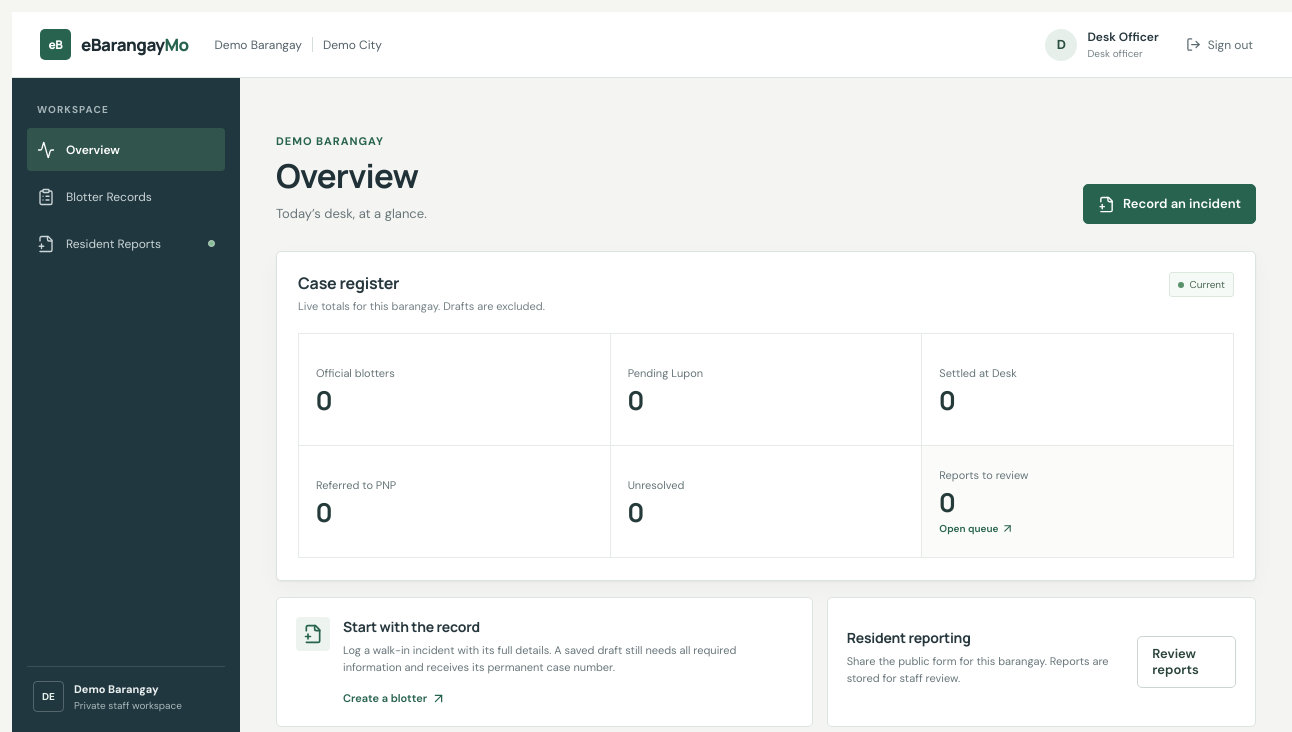
Test: staff sign-in › retains the authenticated context and CSRF token after a failed logout
The width and height of the screenshot is (1292, 732).
Expected: the heading "Overview" is shown, [276, 156, 427, 196]
Click the button "Sign out" at [1219, 44], box [1175, 27, 1264, 62]
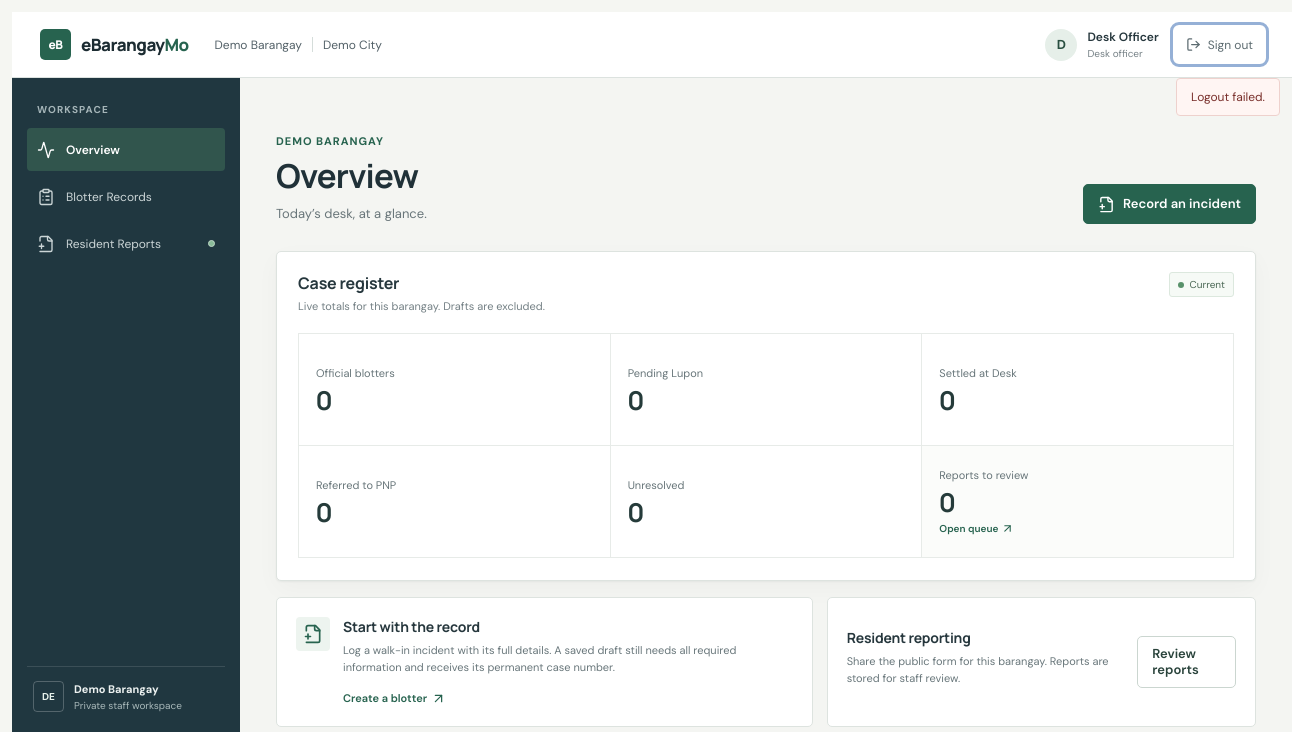
Expected: the text "Desk Officer" is shown, [1087, 29, 1159, 45]
Expected: the text "Logout failed." is shown, [1176, 78, 1280, 116]
Click the button "Sign out" at [1219, 44], box [1175, 27, 1264, 62]
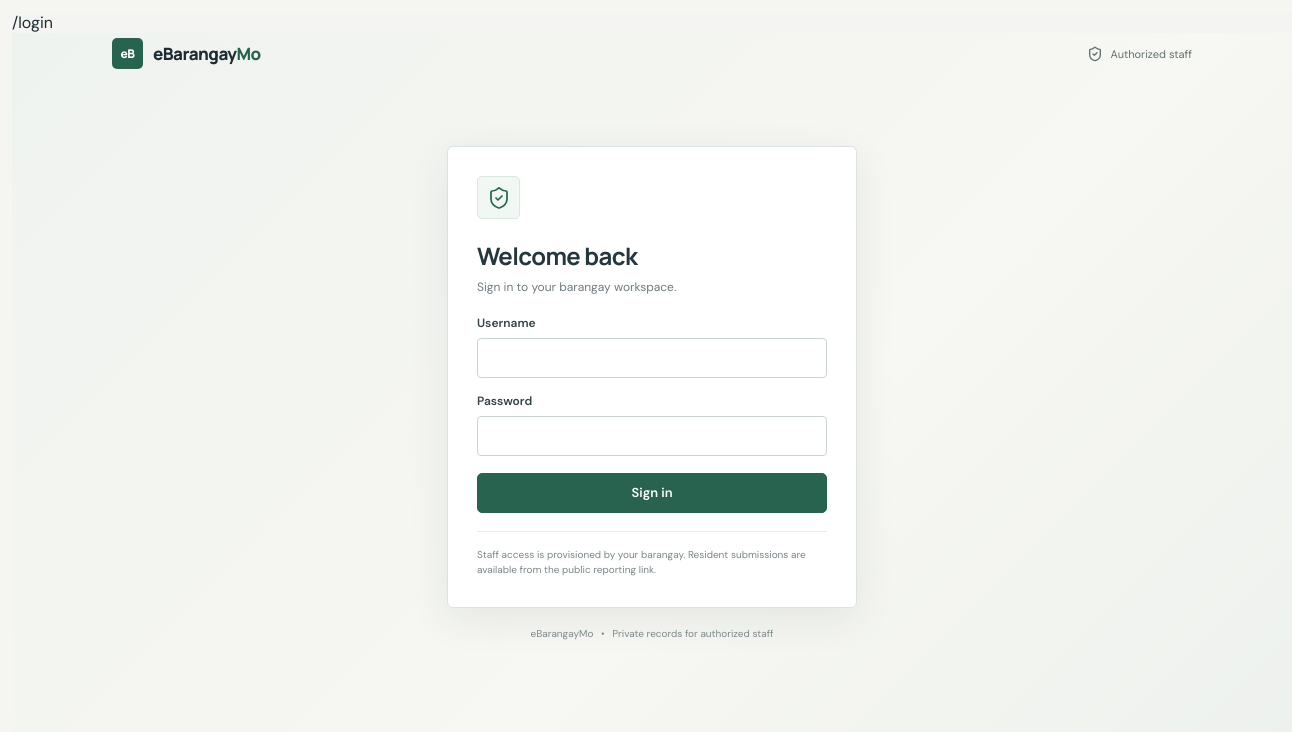
Expected: the heading "Welcome back" is shown, [477, 239, 637, 272]
